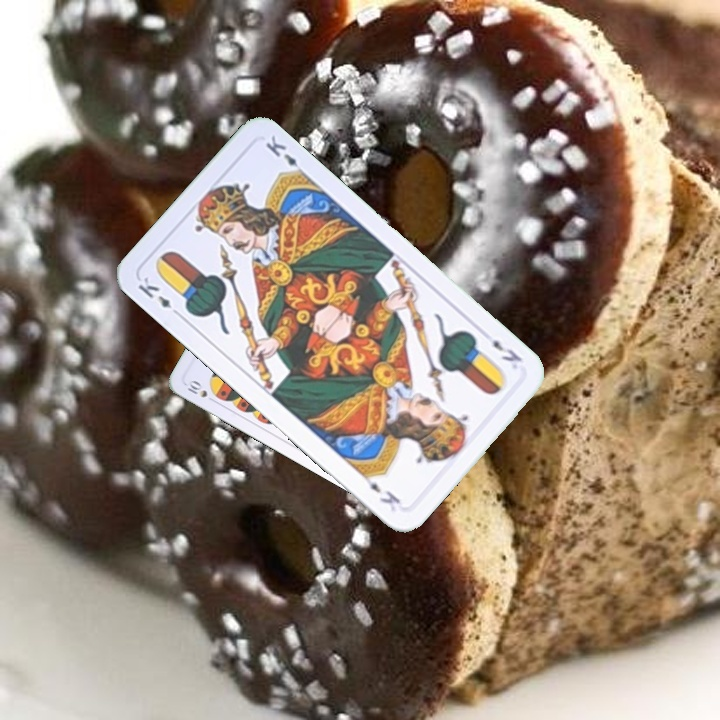EK: (134, 272, 185, 320), (488, 335, 525, 365)
S10: (182, 376, 219, 405)
